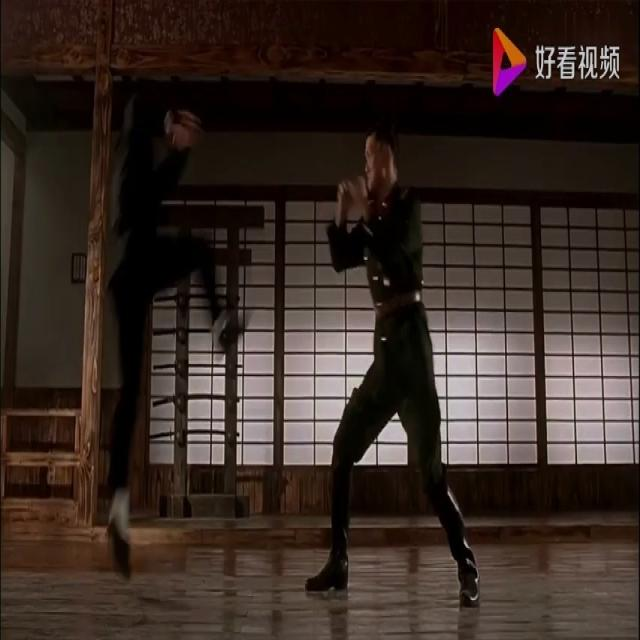fight: (106, 72, 478, 612)
